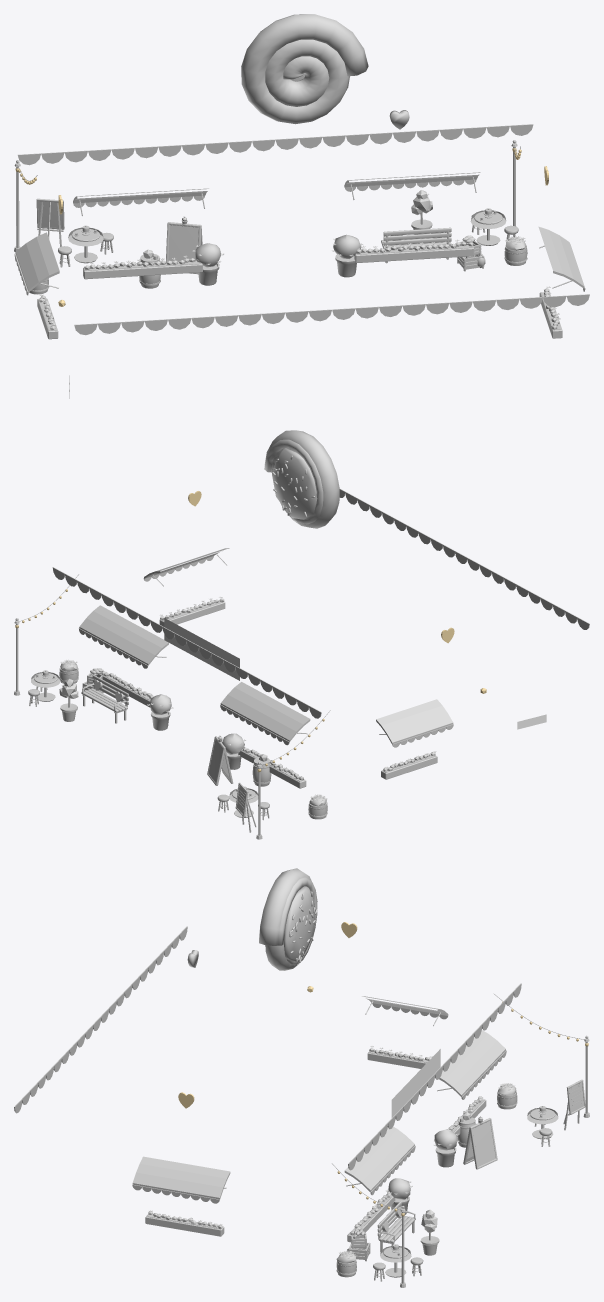
File: zon_bakery.glb
The picture shows the model from 3 angles, top to bottom: view 1: azimuth 30°, elevation 25°; view 2: azimuth 150°, elevation 25°; view 3: azimuth 270°, elevation 25°; orthographic projection. The views are drawn at different scales.
Parts seen in each view (by area): view 1: SM_zon_bakery_kit_bakery_xm1_z1_LOD0, SM_bld_bakery_roll_body__0; view 2: SM_zon_bakery_kit_bakery_xm1_z1_LOD0, SM_bld_bakery_roll_body__0, SCREEN_bld_bakery_shell_sign__0; view 3: SM_zon_bakery_kit_bakery_xm1_z1_LOD0, SM_bld_bakery_roll_body__0, SCREEN_bld_bakery_shell_sign__0, SM_zon_bakery_glow_vc_xm1_z1_LOD0.
Boxes of the visible parts, left/top/right/bottom form: SM_zon_bakery_kit_bakery_xm1_z1_LOD0: left=14, top=124, right=589, bottom=339; SM_bld_bakery_roll_body__0: left=241, top=14, right=368, bottom=124; SM_zon_bakery_kit_bakery_xm1_z1_LOD0: left=14, top=488, right=589, bottom=839; SM_bld_bakery_roll_body__0: left=264, top=430, right=339, bottom=528; SCREEN_bld_bakery_shell_sign__0: left=164, top=618, right=239, bottom=680; SM_zon_bakery_kit_bakery_xm1_z1_LOD0: left=14, top=926, right=589, bottom=1287; SM_bld_bakery_roll_body__0: left=259, top=868, right=317, bottom=970; SCREEN_bld_bakery_shell_sign__0: left=391, top=1049, right=440, bottom=1117; SM_zon_bakery_glow_vc_xm1_z1_LOD0: left=178, top=922, right=588, bottom=1216.
Bounding box in the file's own units: 19.05 × 10.68 × 18.97.
